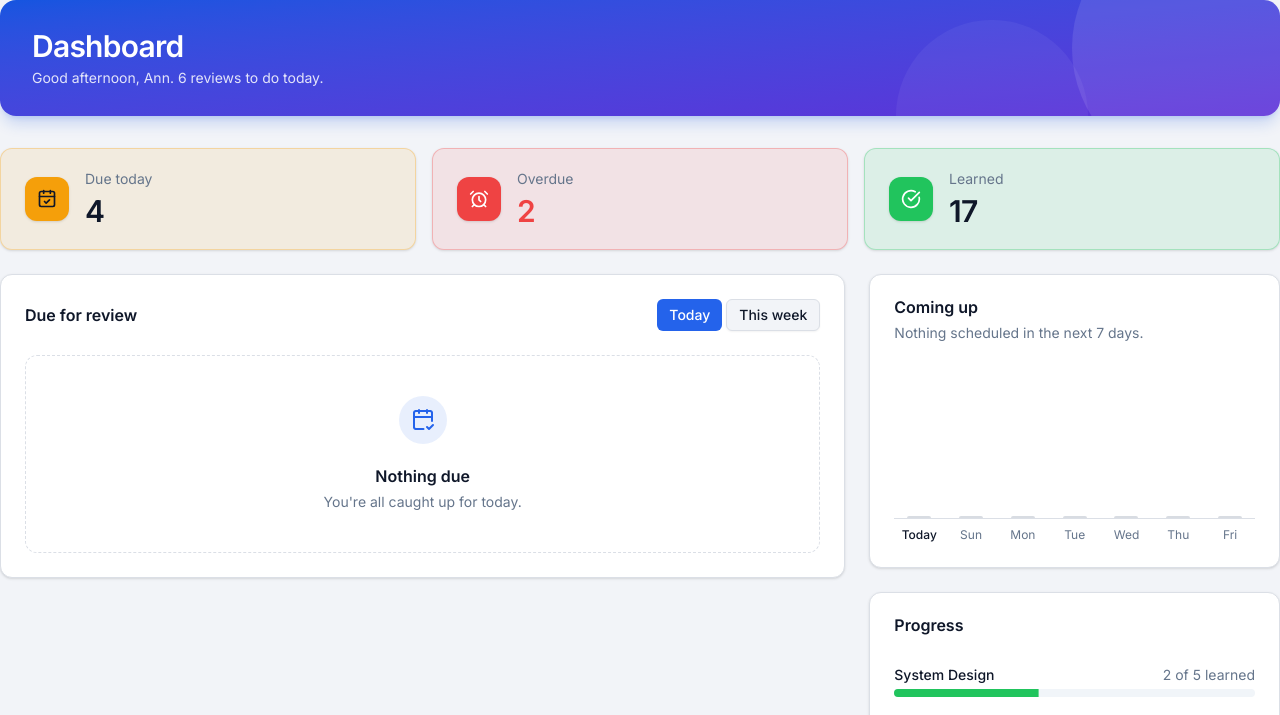
it: due list › says so when nothing is due in the week range
Click the button "This week" at (773, 315), box 726,299 -> 820,331
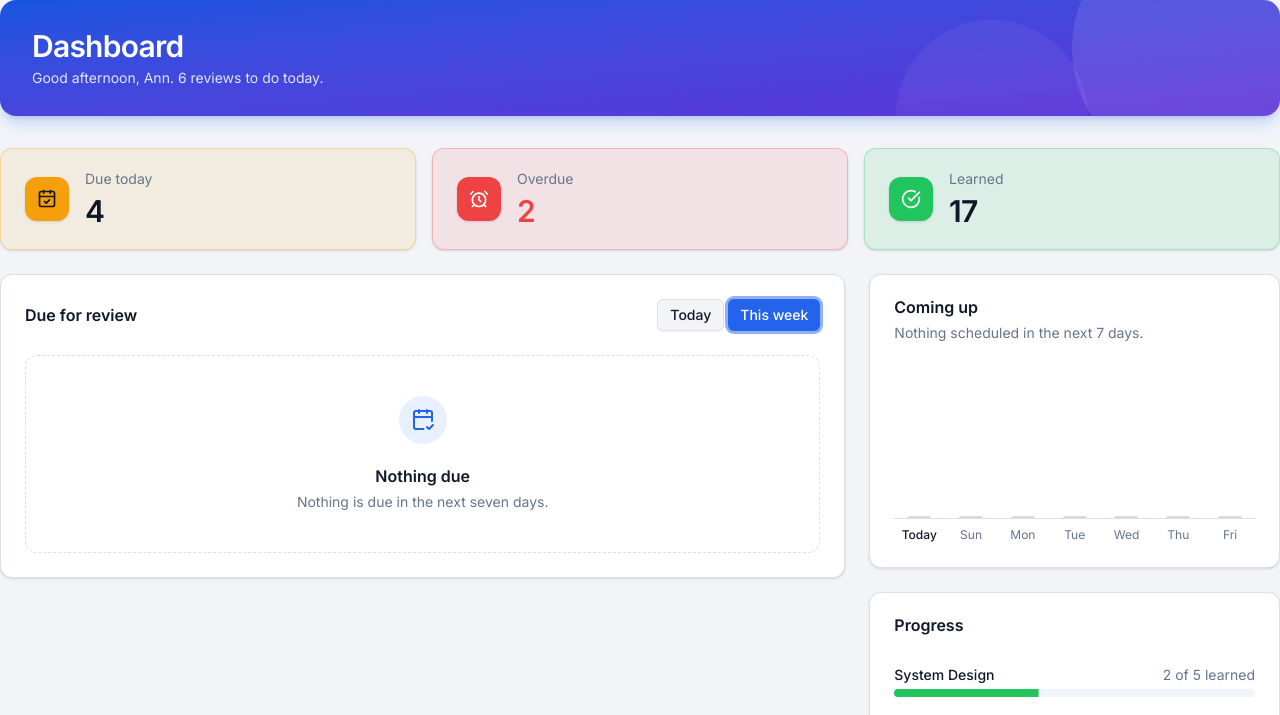
Check: the text "Nothing is due in the next seven days." is shown, box 297,493 -> 548,510
